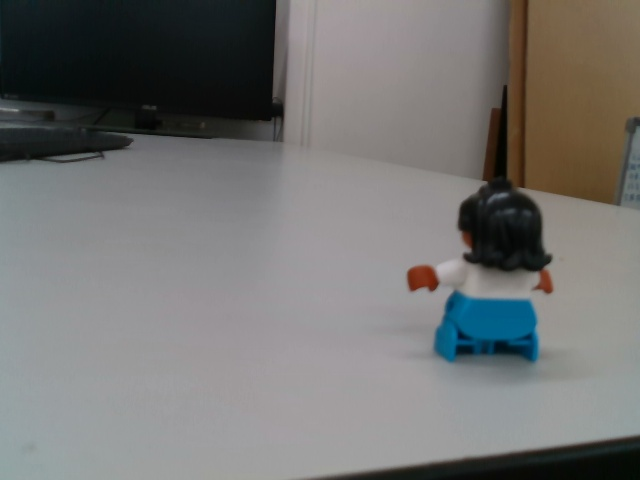people: (407, 181, 559, 366)
